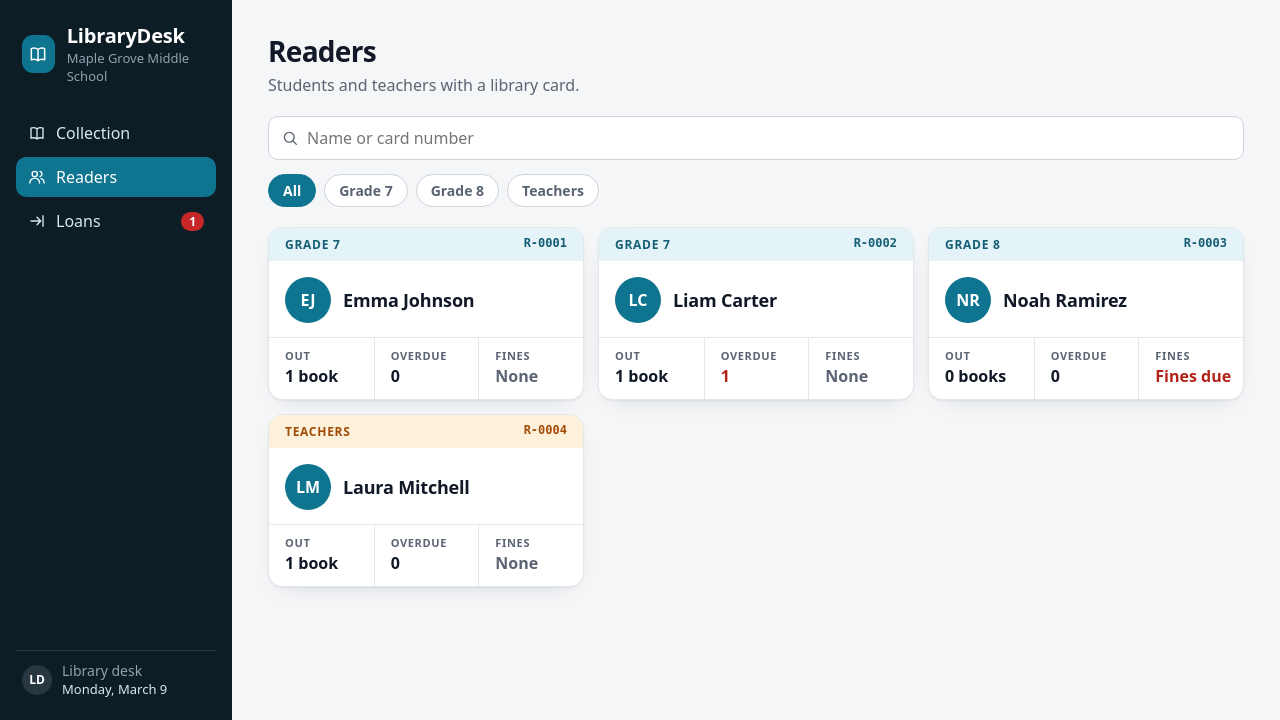
Scenario: readers › are filtered by class
Expected: the navigation bar named "Main" is shown, [16, 113, 216, 241]
Expected: the list item with test id "reader-1" is shown, [268, 227, 584, 400]
Click the button "Teachers" at (553, 190), box [507, 174, 599, 207]
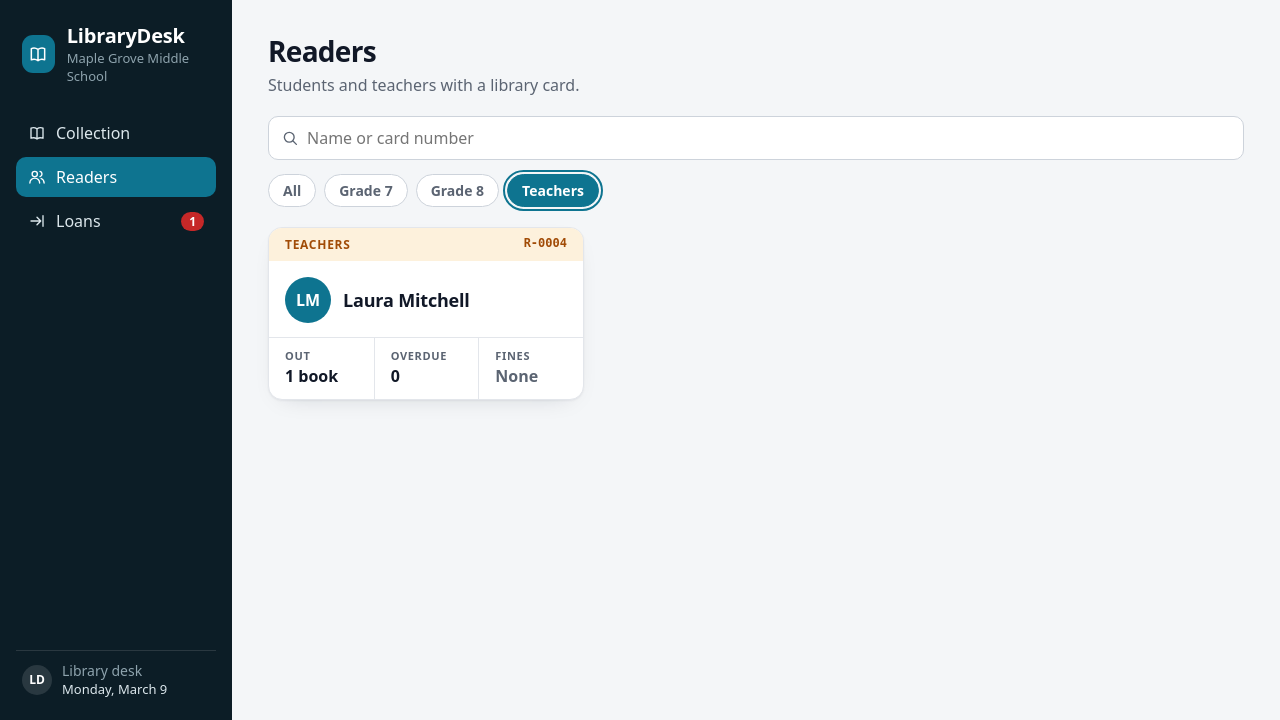
Expected: the list item with test id "reader-4" is shown, [268, 227, 584, 400]
Expected: the list item with test id "reader-1" is gone
